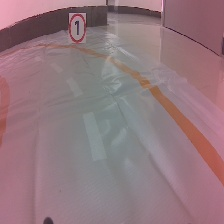limit: (63, 9, 91, 49)
